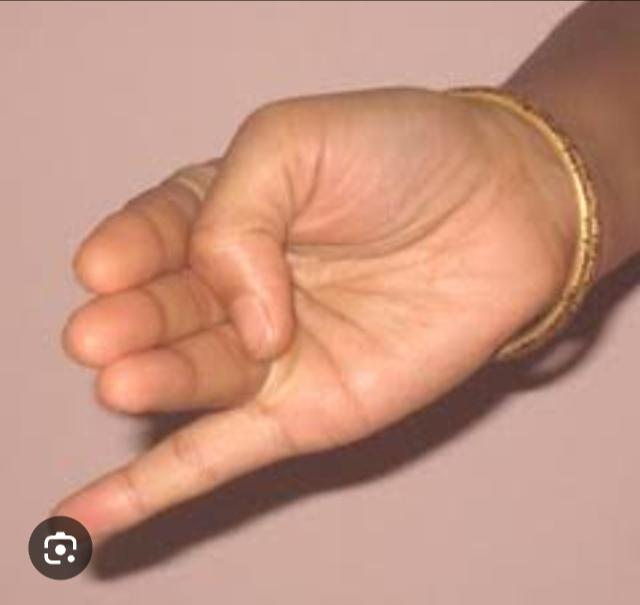chatur: (21, 41, 616, 532)
